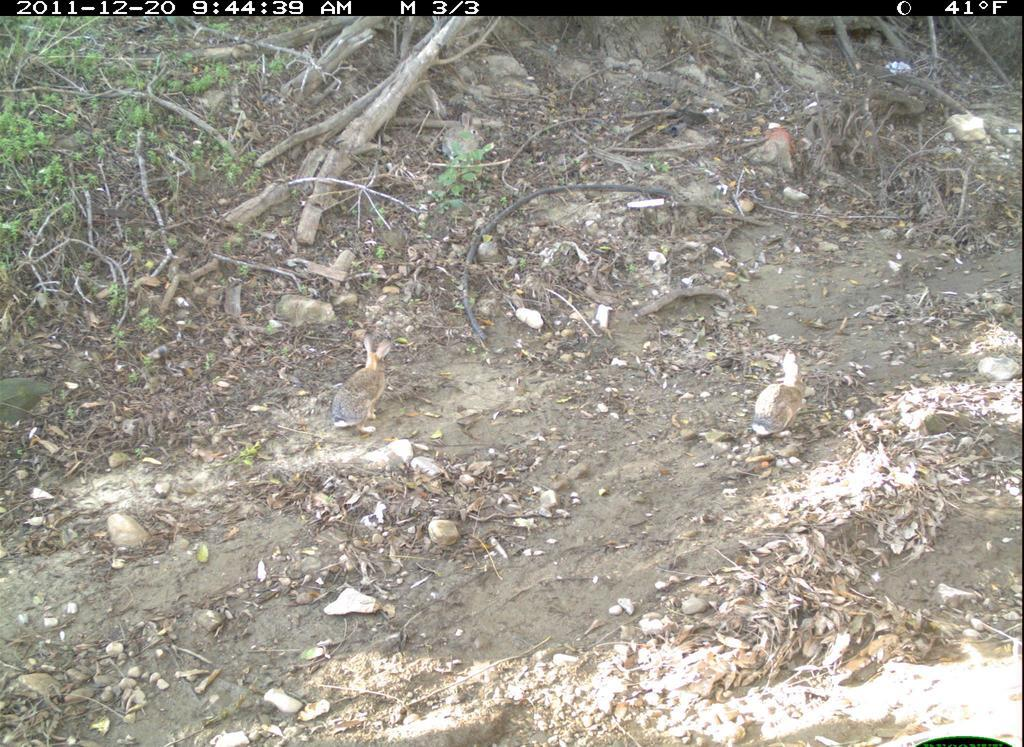rabbit: (315, 327, 410, 445), (745, 342, 825, 459)
